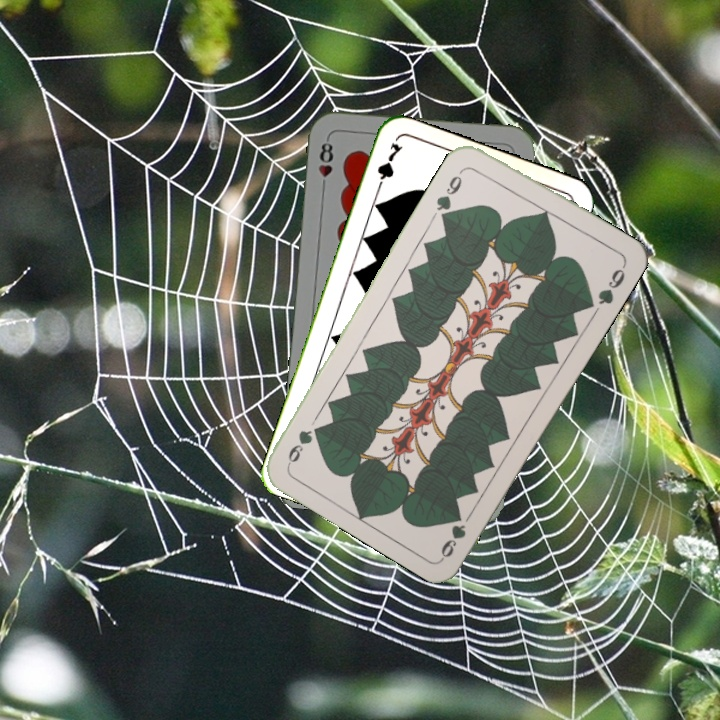G7: (371, 138, 406, 196)
G9: (430, 164, 469, 220), (436, 509, 469, 561)
H8: (314, 134, 336, 193)
